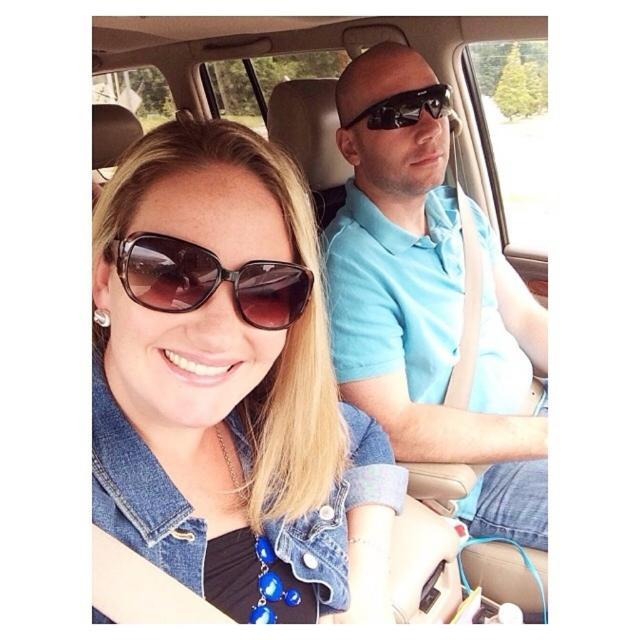SafeDriving: (124, 244, 200, 294)
Seatbelt: (87, 522, 239, 626), (444, 132, 466, 410)
